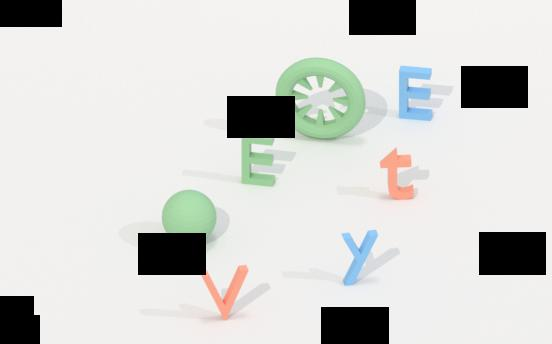E-hoa: (394, 58, 438, 127), (240, 130, 280, 188)
Y: (338, 228, 381, 289)
cau: (160, 188, 218, 248)
t: (379, 146, 417, 204)
tron: (273, 54, 368, 143)
v: (197, 260, 251, 327)
